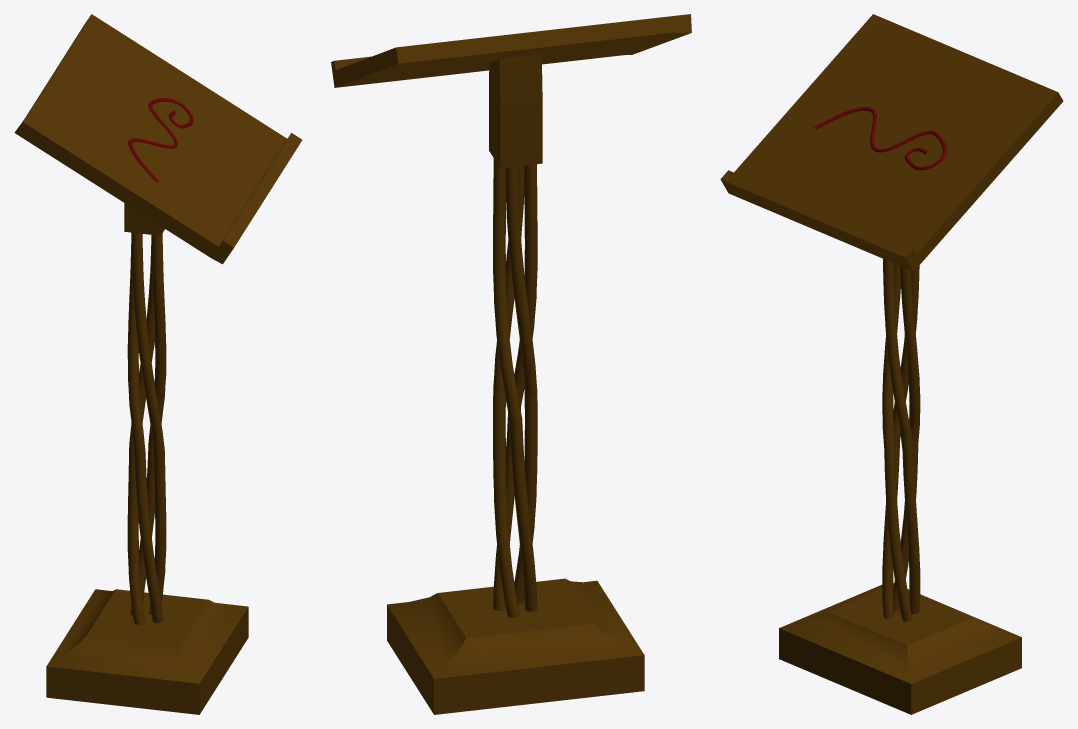
File: Module_Pupitre_MiniMap.fbx
The picture shows the model from 3 angles, left to right: view 1: azimuth 30°, elevation 25°; view 2: azimuth 150°, elevation 25°; view 3: azimuth 270°, elevation 25°; orthographic projection. The views are drawn at different scales.
Visible parts, largest first — view 1: Pupitre_MapChecker, Marque_Pupitre; view 2: Pupitre_MapChecker; view 3: Pupitre_MapChecker, Marque_Pupitre.
Boxes of the visible parts, x1,y1,x2,y2 form: Pupitre_MapChecker: (14,14,302,714); Marque_Pupitre: (128,98,193,182); Pupitre_MapChecker: (331,14,691,714); Pupitre_MapChecker: (720,14,1063,714); Marque_Pupitre: (814,107,946,170).
Size of the model in its own units: 69.21 by 130 by 69.16.
